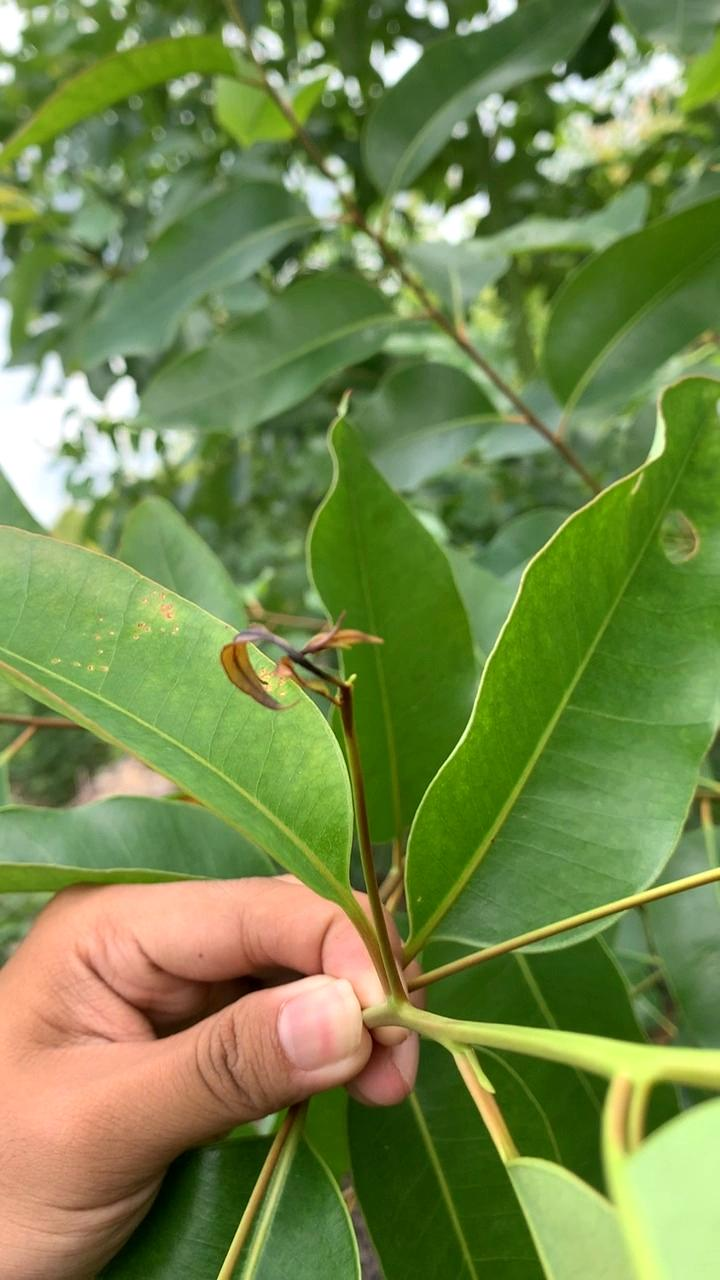Helopeltis-Withered Sprout: (213, 606, 379, 715)
